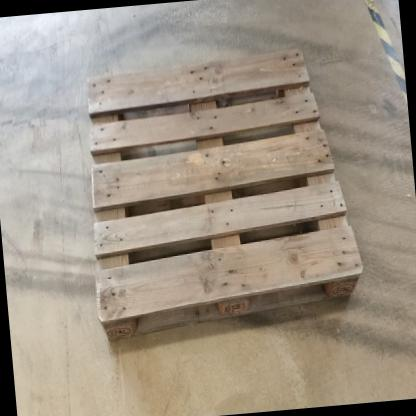BoxFace: (83, 41, 368, 350)
